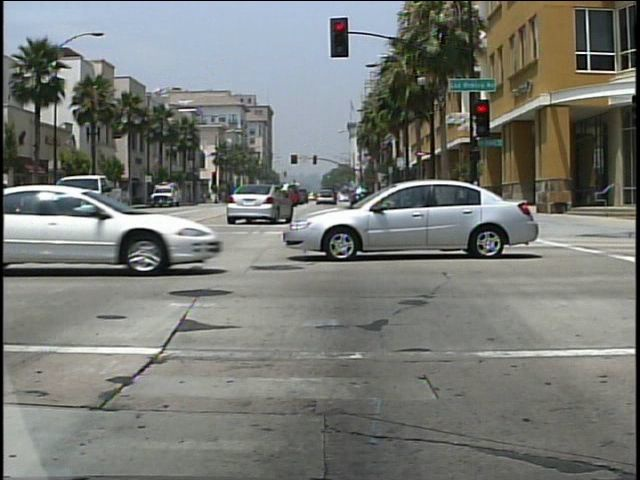person: (2, 177, 23, 231)
